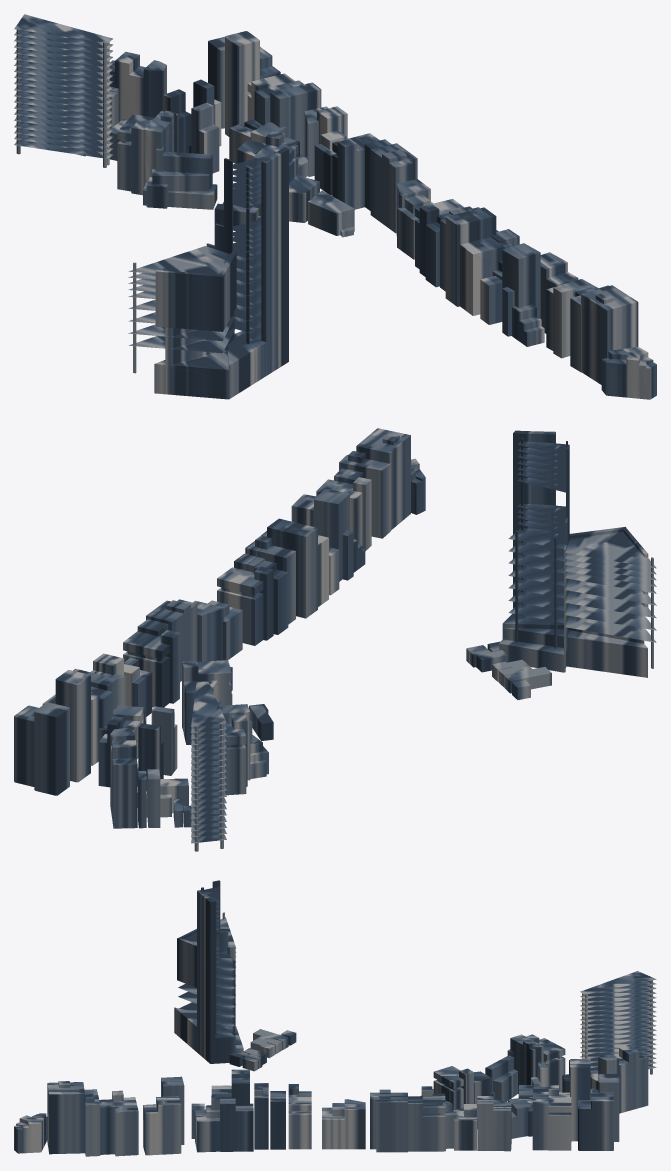
Rendered from ct_omnistat_tunnels_area01.glb.
3 views of the same model, one above another, from view 1: azimuth 30°, elevation 25°; view 2: azimuth 150°, elevation 25°; view 3: azimuth 270°, elevation 25° (orthographic). The views are drawn at different scales.
Parts seen in each view (by area): view 1: world; view 2: world; view 3: world.
Boxes of the visible parts, x1,y1,x2,y2 form: world: (14, 14, 656, 399); world: (14, 428, 656, 851); world: (14, 880, 656, 1156).
Size of the model in its own units: 35023 by 17781 by 64009.
1 material, 1 textured.
